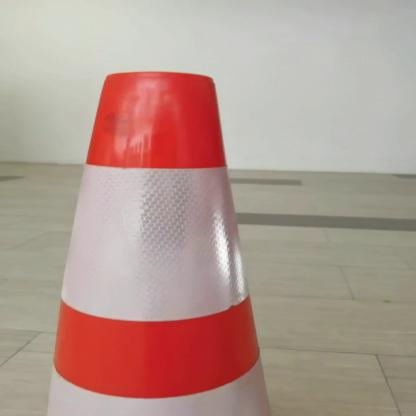cone: (51, 60, 333, 416)
